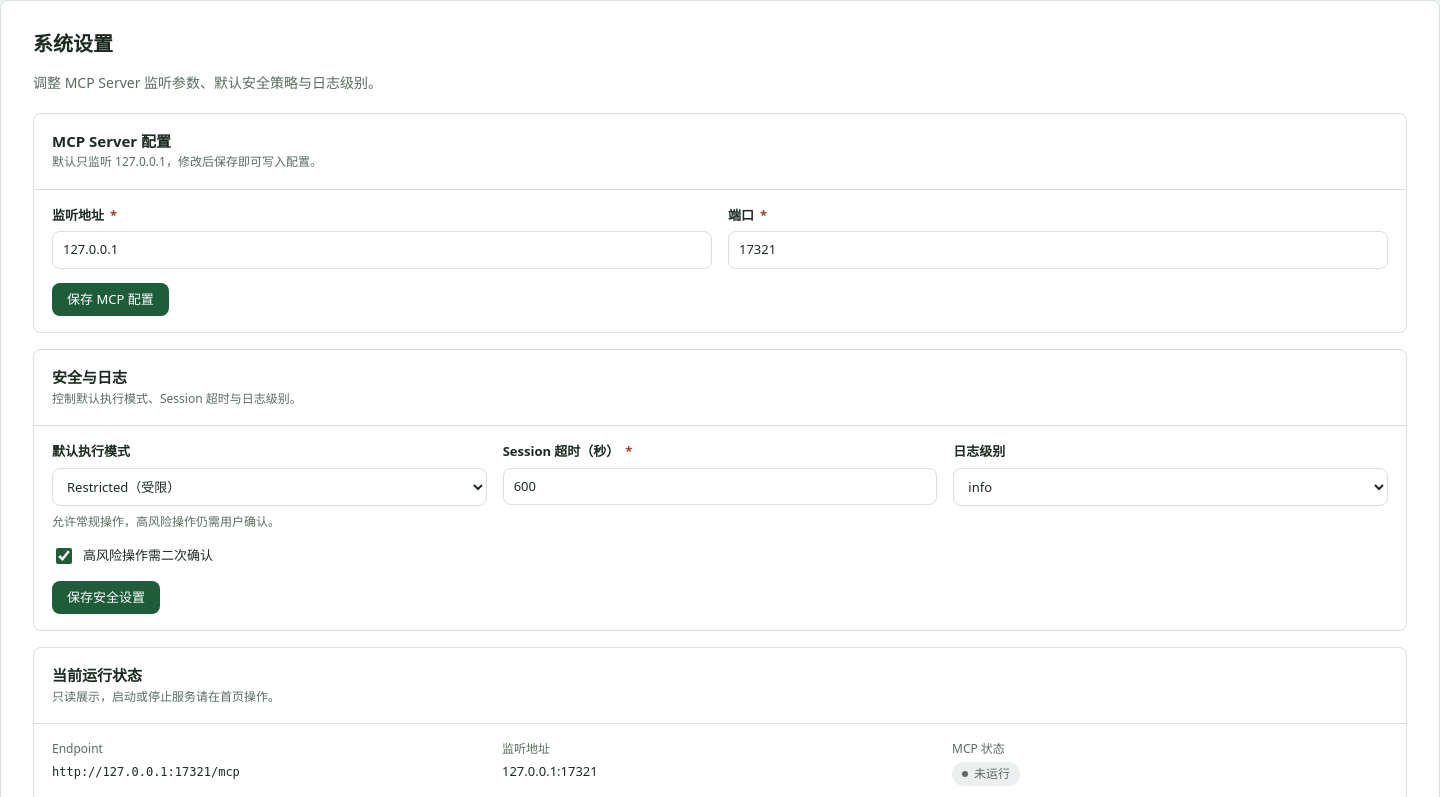
Test case: 系统设置 - MCP 配置 › 保存失败时展示友好错误
Click the button "保存 MCP 配置".
click(110, 300)  # box [52, 283, 169, 316]
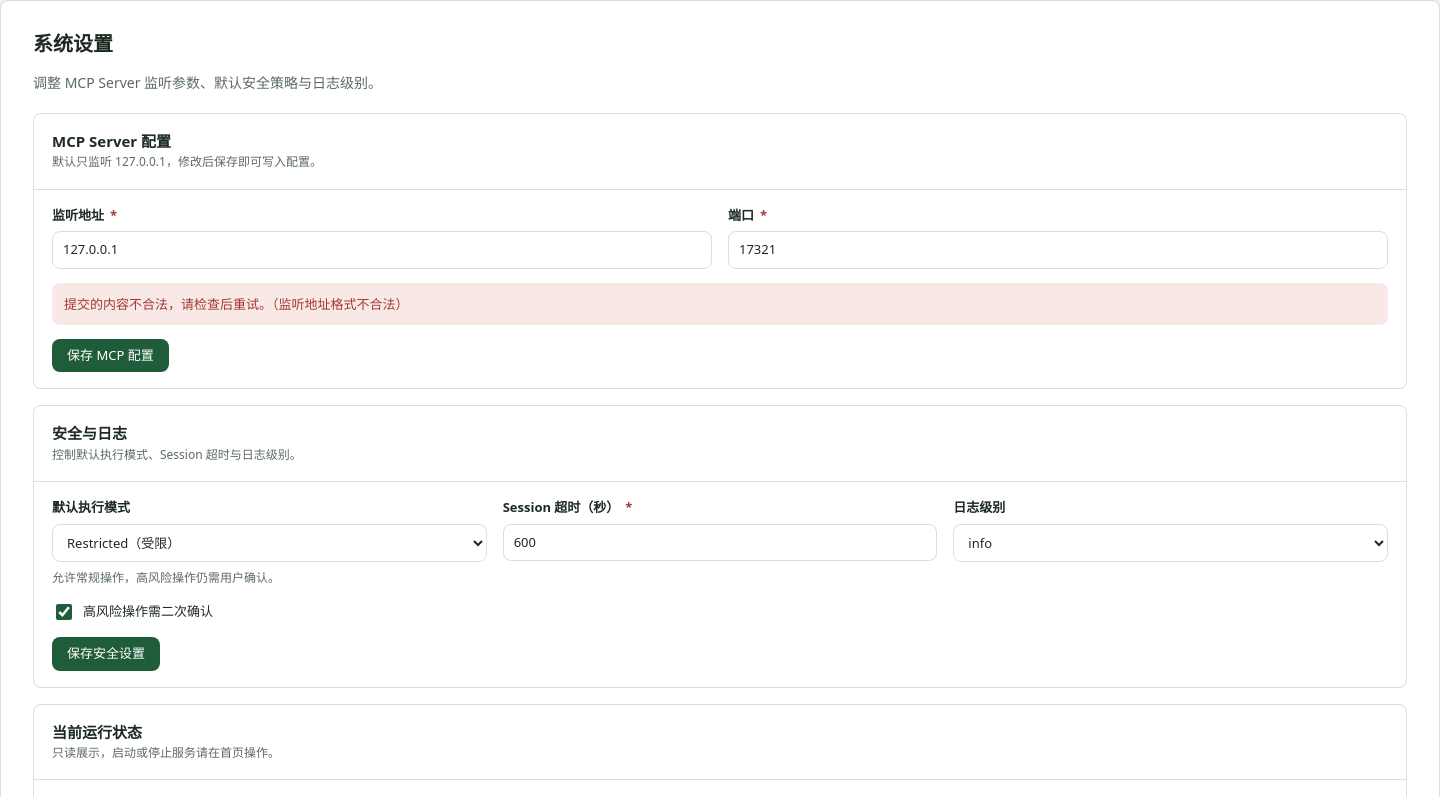
Result: the text "提交的内容不合法，请检查后重试。（监听地址格式不合法）" is shown at [52, 283, 1388, 325]
